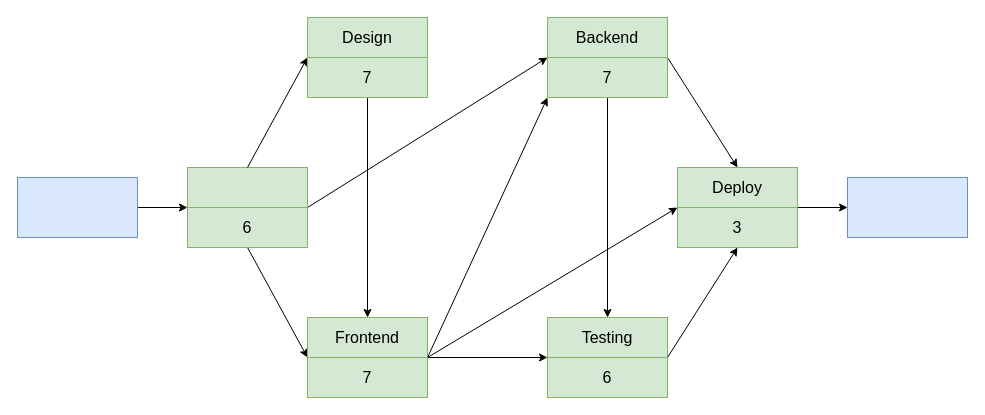
This 985x415 diagram has some shape labels left out. Here are the shapes that lost their labels. From the top down, the centre of each, then its label:
At [77,207]: "Start".
At [247,187]: "Research".
At [907,207]: "Finish".
